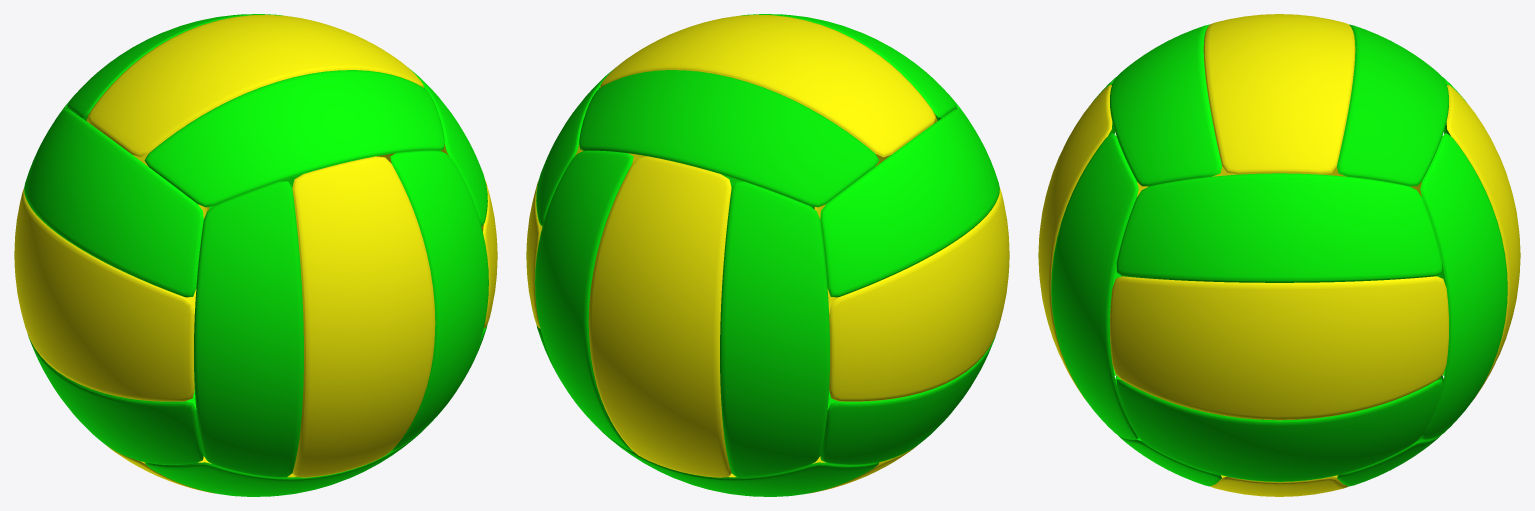
The model's file is ball_br.fbx.
3 renders of one model, left to right at view 1: azimuth 30°, elevation 25°; view 2: azimuth 150°, elevation 25°; view 3: azimuth 270°, elevation 25°, orthographic.
Visible parts, largest first — view 1: orca5fcq63sh; view 2: orca5fcq63sh; view 3: orca5fcq63sh.
Part boxes in pixels (x1,y1,x2,y2): orca5fcq63sh: (14,14,497,496); orca5fcq63sh: (526,14,1009,496); orca5fcq63sh: (1038,14,1520,496).
Bounding box in the file's own units: 28.45 × 28.45 × 28.45.
